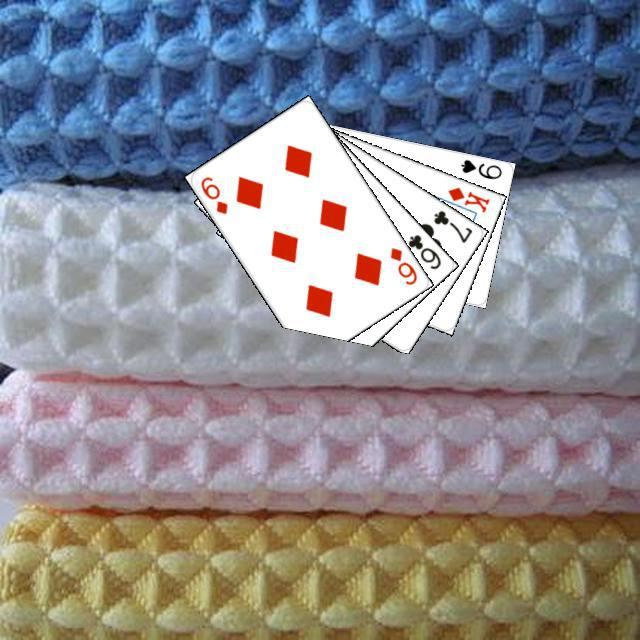6c: (403, 230, 443, 271)
6d: (385, 242, 419, 287), (196, 171, 229, 216)
7c: (428, 205, 474, 244)
9s: (456, 154, 503, 181)
Kd: (443, 182, 491, 214)
